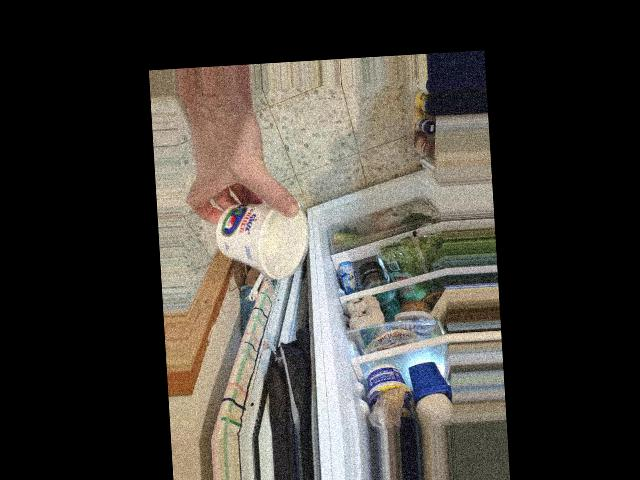cotage: (215, 189, 291, 276)
